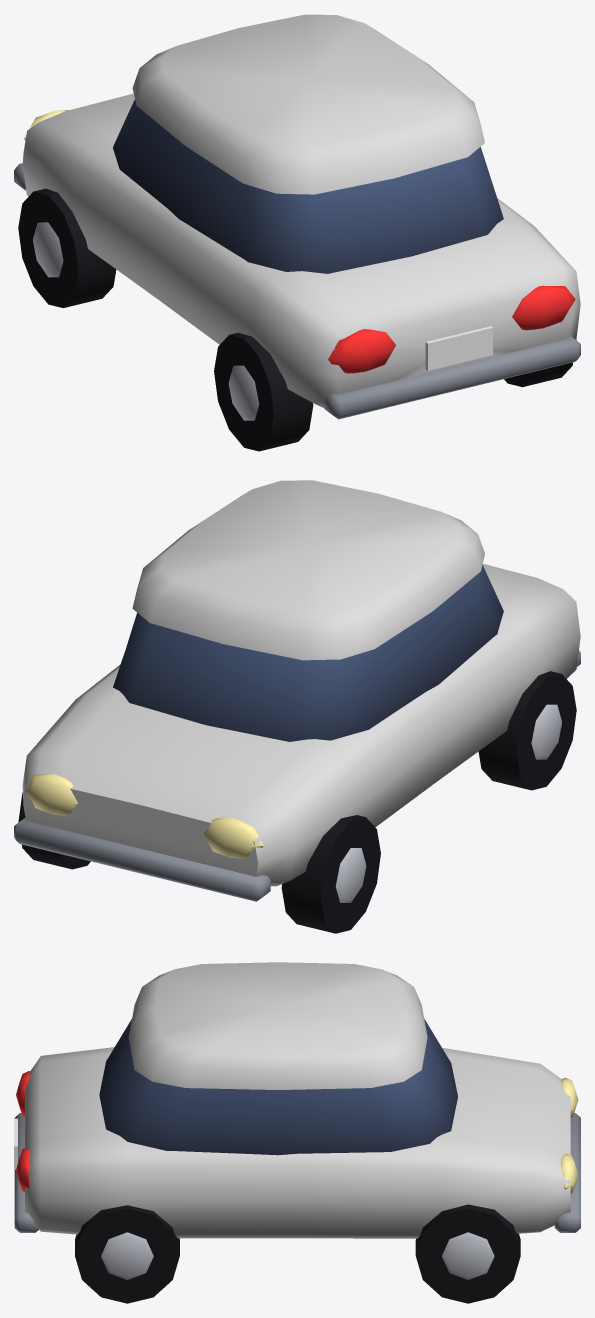
File: carro.glb
3 views of the same model, one above another, from view 1: azimuth 30°, elevation 25°; view 2: azimuth 150°, elevation 25°; view 3: azimuth 270°, elevation 25° (orthographic). The views are drawn at different scales.
Visible parts, largest first — view 1: pintura, carro; view 2: pintura, carro; view 3: pintura, carro.
Boxes of the visible parts, x1,y1,x2,y2 form: pintura: (22, 14, 580, 407); carro: (14, 99, 580, 451); pintura: (22, 480, 580, 886); carro: (14, 565, 580, 933); pintura: (25, 962, 570, 1238); carro: (14, 1019, 580, 1303).
Size of the model in its own units: 2.36 by 1.96 by 4.33.
